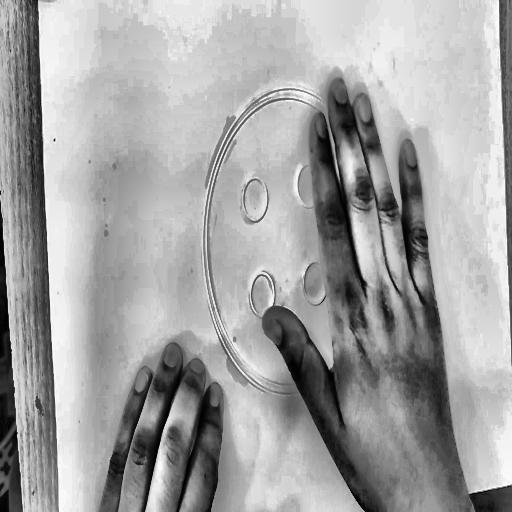button: (187, 71, 391, 428)
